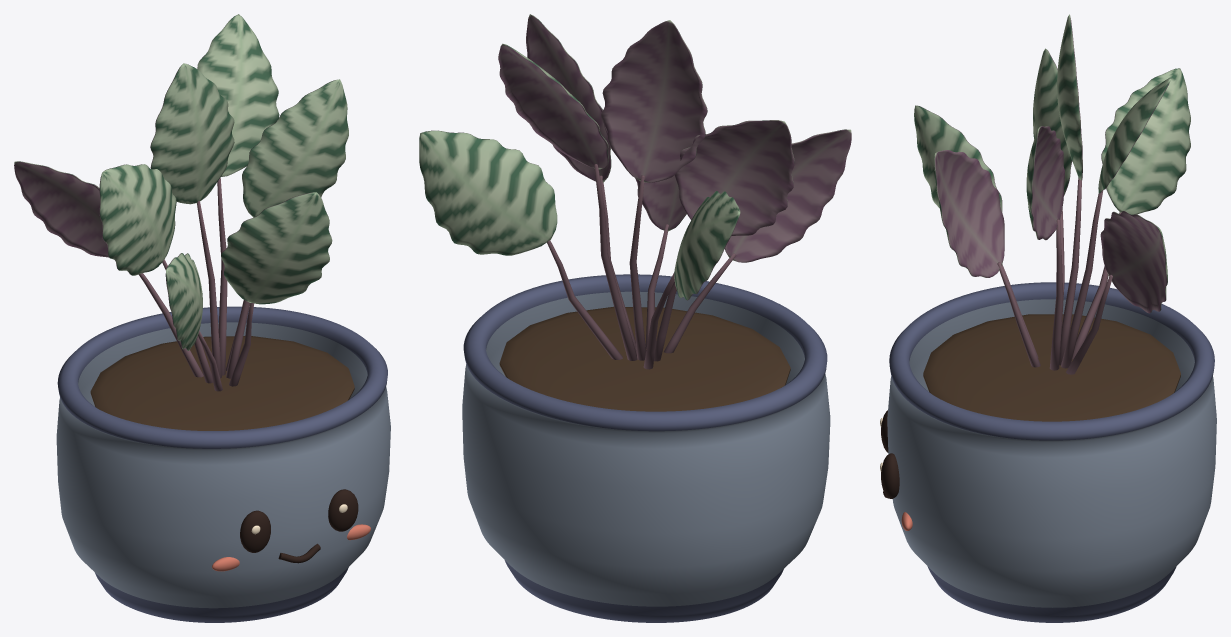
Rendered from fishbone-prayer-plant-v1.glb.
The picture shows the model from 3 angles, left to right: view 1: azimuth 30°, elevation 25°; view 2: azimuth 150°, elevation 25°; view 3: azimuth 270°, elevation 25°; orthographic projection. The views are drawn at different scales.
Parts seen in each view (by area): view 1: Wheel-thrown ceramic, Ctenanthe fishbone bands, Soil, Eye, Eye.001; view 2: Wheel-thrown ceramic, Ctenanthe fishbone bands, Soil; view 3: Wheel-thrown ceramic, Ctenanthe fishbone bands, Soil, Eye.001.
Part boxes in pixels (x1=…): Wheel-thrown ceramic: x1=56, y1=306, x2=390, y2=622; Ctenanthe fishbone bands: x1=14, y1=14, x2=348, y2=391; Soil: x1=90, y1=336, x2=354, y2=430; Eye: x1=240, y1=510, x2=270, y2=552; Eye.001: x1=328, y1=489, x2=358, y2=531; Wheel-thrown ceramic: x1=462, y1=274, x2=830, y2=622; Ctenanthe fishbone bands: x1=419, y1=14, x2=851, y2=369; Soil: x1=499, y1=306, x2=790, y2=411; Wheel-thrown ceramic: x1=887, y1=282, x2=1216, y2=622; Ctenanthe fishbone bands: x1=914, y1=14, x2=1190, y2=374; Soil: x1=923, y1=314, x2=1180, y2=421; Eye.001: x1=881, y1=453, x2=899, y2=498.
Size of the model in its own units: 1.66 by 2.71 by 1.53.
